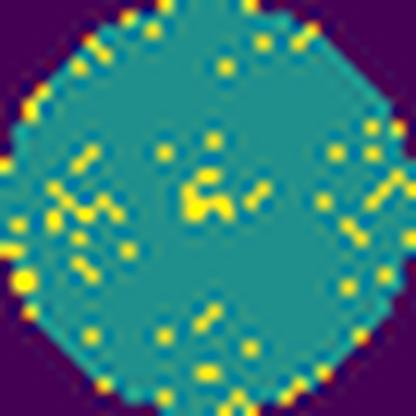Center: (180, 159, 240, 234)
